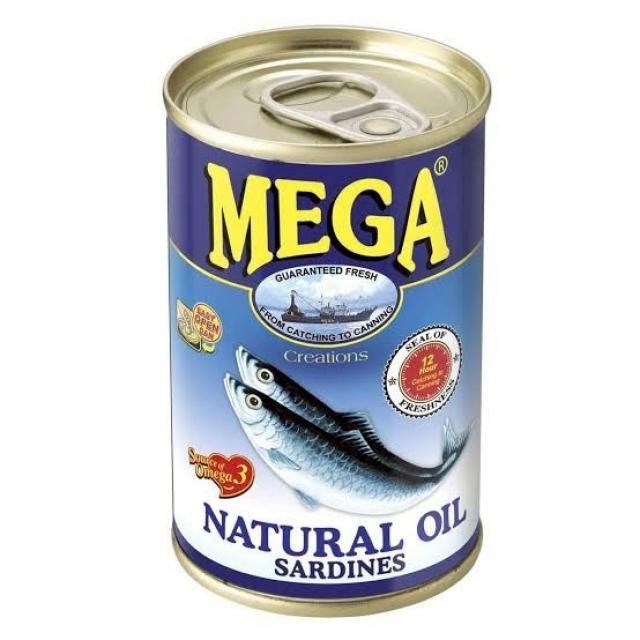can: (161, 23, 487, 616)
